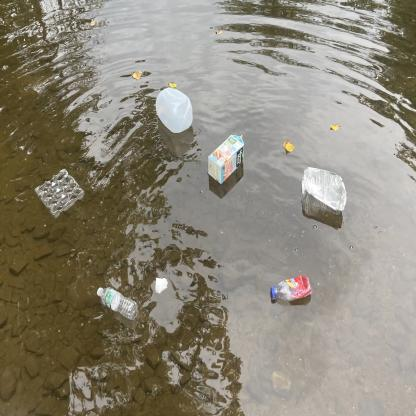trash: (33, 164, 88, 221), (297, 161, 349, 219), (206, 130, 246, 190), (152, 83, 198, 134), (266, 271, 317, 307), (94, 283, 140, 322), (152, 271, 170, 297)
